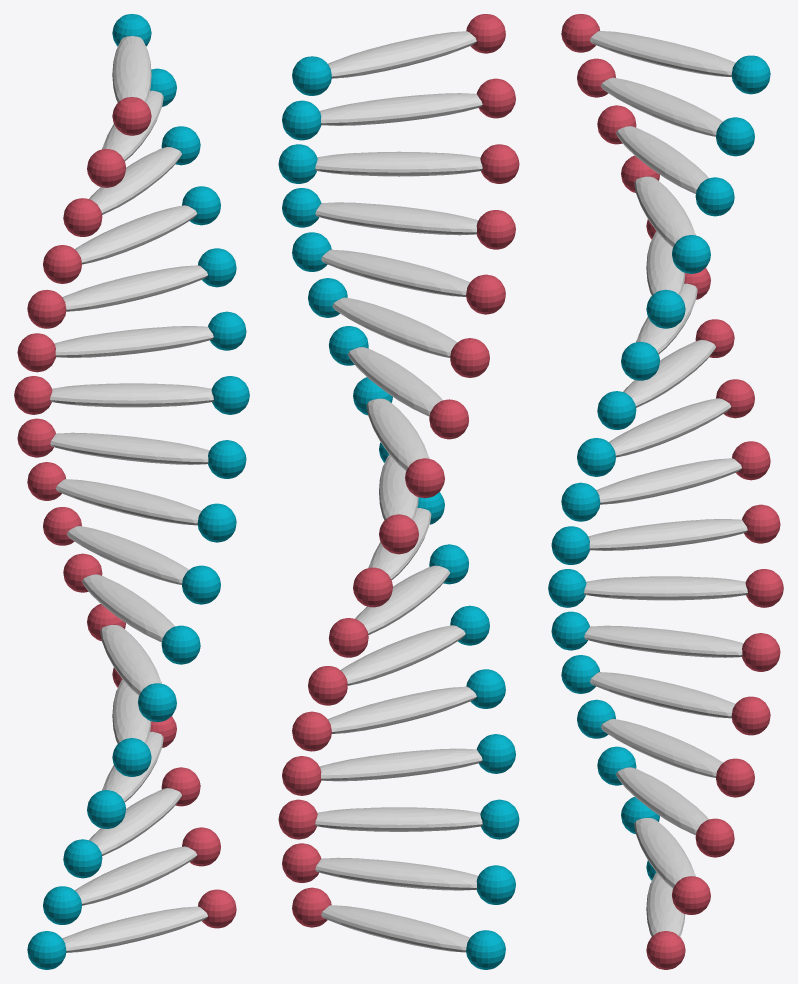
File: DNA.glb
3 renders of one model, left to right at view 1: azimuth 30°, elevation 25°; view 2: azimuth 150°, elevation 25°; view 3: azimuth 270°, elevation 25°, orthographic. The views are drawn at different scales.
Parts seen in each view (by area): view 1: Mesh_Mesh_head_geo.001_lambert2SG.001; view 2: Mesh_Mesh_head_geo.001_lambert2SG.001; view 3: Mesh_Mesh_head_geo.001_lambert2SG.001.
Boxes of the visible parts, <box> form: Mesh_Mesh_head_geo.001_lambert2SG.001: <box>14,14,249,969</box>; Mesh_Mesh_head_geo.001_lambert2SG.001: <box>278,14,519,969</box>; Mesh_Mesh_head_geo.001_lambert2SG.001: <box>548,14,783,969</box>.
Bounding box in the file's own units: 120 × 499 × 120.
